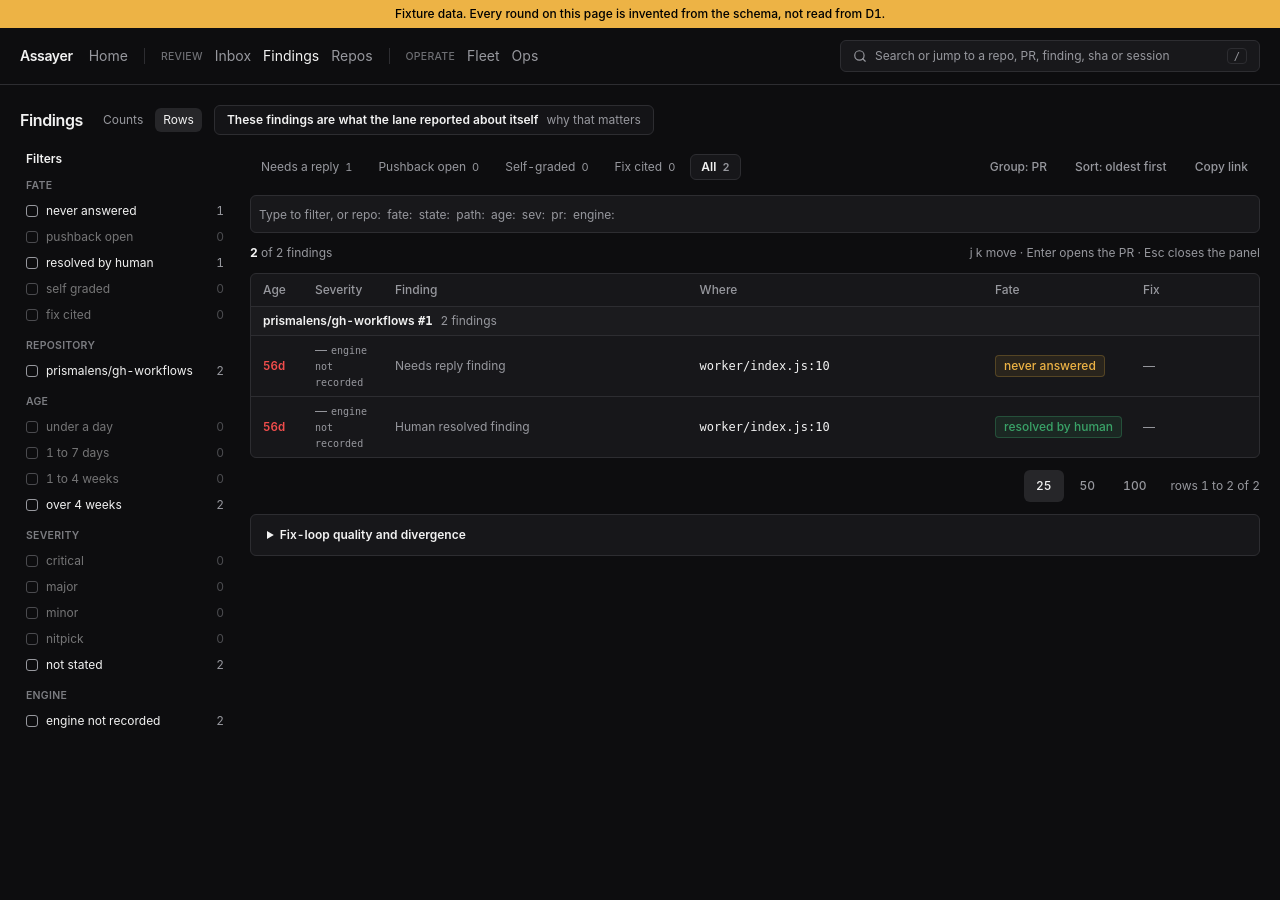
Test: /findings: the inbox › the 'Needs a reply' tab filters to never-answered
Expected: the text "Human resolved finding" is shown, [395,419,530,434]
Click the tab "Needs a reply 1". click: (307,167)
box: [250,154,363,180]
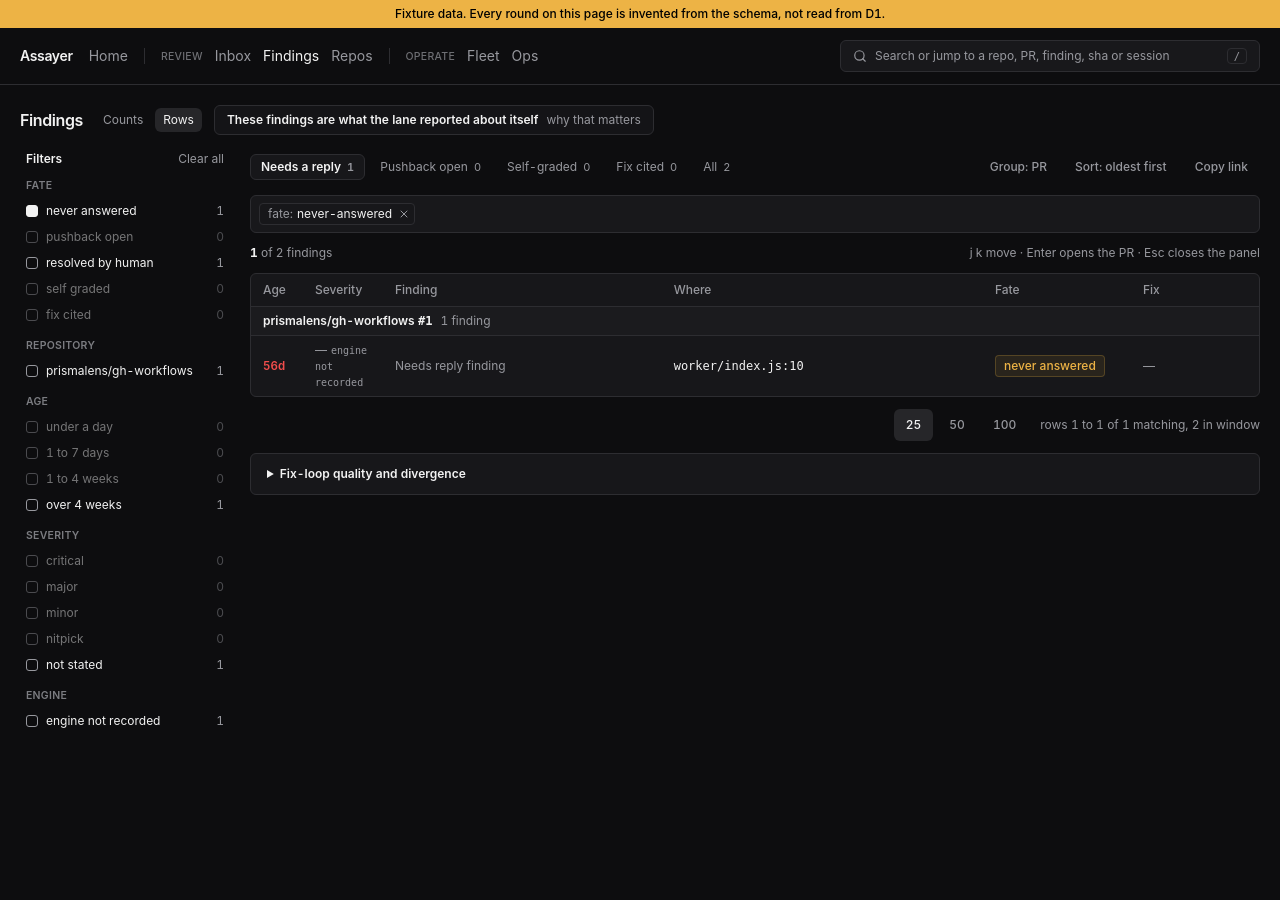
Expected: the text "Needs reply finding" is shown, [395,358,506,373]
Expected: the text "Human resolved finding" is gone
